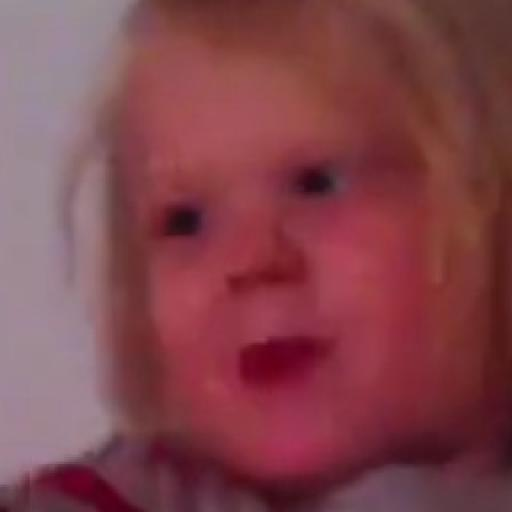Autism: (103, 21, 512, 485)
